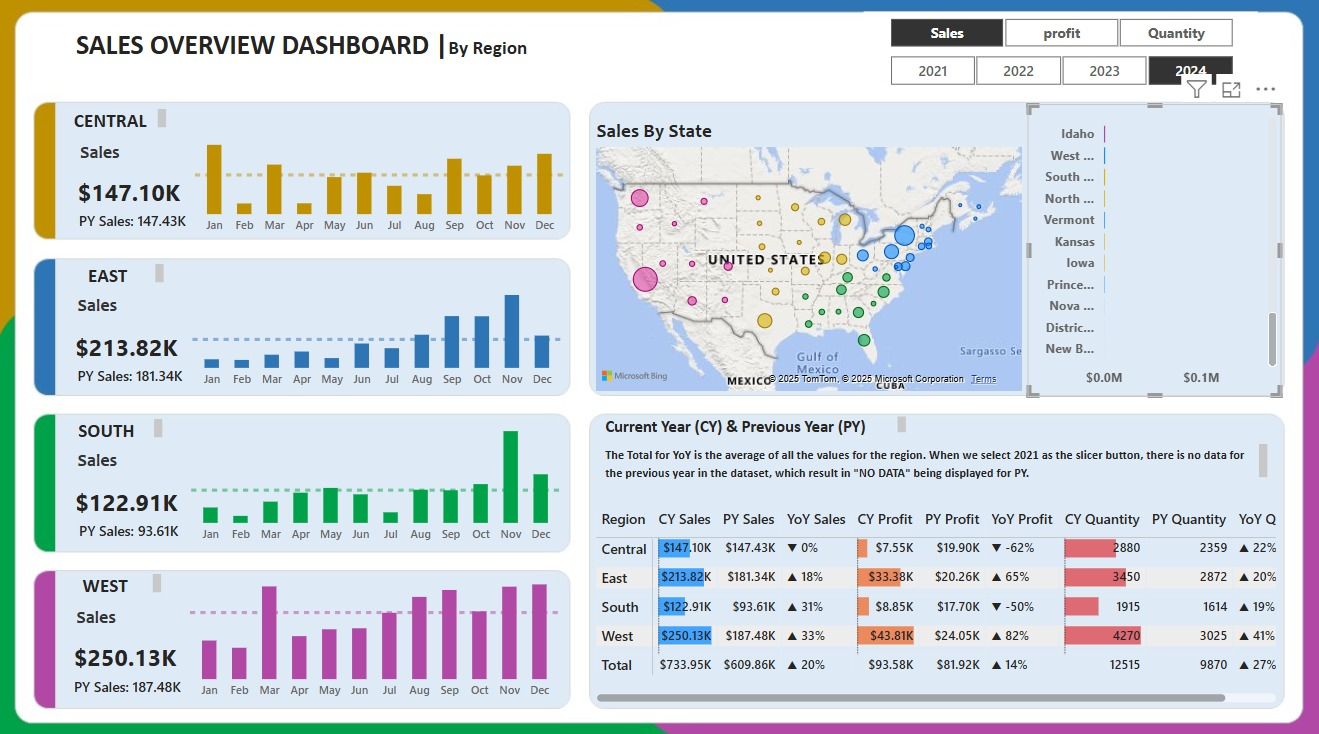

What the dashboard file says about the page in this screenshot:
{"tool":"powerbi","page":{"name":"Page 1","canvas":[1280,720],"ordinal":0},"visuals":[{"type":"slicer","fields":{"Values":["Select Metric.Select Metric"]},"box":[838.4,16.5,380.1,37],"z":0},{"type":"card","fields":{"Values":["Sales Data.Total Sales"]},"box":[71.4,170.2,116.6,45.3],"z":1000},{"type":"textbox","box":[60.3,106.2,109.8,30.2],"z":2000},{"type":"slicer","fields":{"Values":["Calendar Table.Year"]},"box":[838.4,53.5,380.1,41.2],"z":3000},{"type":"card","fields":{"Values":["Sales Data.Dynamic Title"]},"box":[71.4,135.8,60.4,34.3],"z":4000},{"type":"card","fields":{"Values":["Sales Data.PY KPI Sales"]},"box":[67.2,203.1,130.4,37],"z":5000},{"type":"clusteredColumnChart","fields":{"Y":["Sales Data.Total Sales"],"Category":["Calendar Table.Month"]},"box":[188,105.7,366.4,134.5],"z":6000},{"type":"textbox","box":[37,27.4,517.3,50.8],"z":7000},{"type":"card","fields":{"Values":["Sales Data.Total Sales"]},"box":[69.3,319.6,116.6,45.3],"z":8000},{"type":"textbox","box":[58.2,255.6,109.8,30.2],"z":9000},{"type":"card","fields":{"Values":["Sales Data.Dynamic Title"]},"box":[69.3,285.3,60.4,34.3],"z":10000},{"type":"card","fields":{"Values":["Sales Data.PY KPI Sales"]},"box":[65.2,352.5,130.4,37],"z":11000},{"type":"clusteredColumnChart","fields":{"Y":["Sales Data.Total Sales"],"Category":["Calendar Table.Month"]},"box":[185.9,255.1,366.4,134.5],"z":12000},{"type":"card","fields":{"Values":["Sales Data.Total Sales"]},"box":[68.2,468.9,116.6,45.3],"z":13000},{"type":"textbox","box":[57.1,404.9,109.8,30.2],"z":14000},{"type":"card","fields":{"Values":["Sales Data.Dynamic Title"]},"box":[68.2,434.6,60.4,34.3],"z":15000},{"type":"card","fields":{"Values":["Sales Data.PY KPI Sales"]},"box":[64.1,501.8,130.4,37],"z":16000},{"type":"clusteredColumnChart","fields":{"Y":["Sales Data.Total Sales"],"Category":["Calendar Table.Month"]},"box":[184.8,404.4,366.4,134.5],"z":17000},{"type":"card","fields":{"Values":["Sales Data.Total Sales"]},"box":[67.1,619.3,116.6,45.3],"z":18000},{"type":"textbox","box":[56.1,555.3,109.8,30.2],"z":19000},{"type":"card","fields":{"Values":["Sales Data.Dynamic Title"]},"box":[67.1,585,60.4,34.3],"z":20000},{"type":"card","fields":{"Values":["Sales Data.PY KPI Sales"]},"box":[63,652.2,130.4,37],"z":21000},{"type":"clusteredColumnChart","fields":{"Y":["Sales Data.Total Sales"],"Category":["Calendar Table.Month"]},"box":[183.7,554.8,366.4,134.5],"z":22000},{"type":"map","title":"Sales By State","fields":{"Size":["Sales Data.Total Sales"],"Category":["Sales Data.State/Province"],"Series":["Sales Data.Region"]},"box":[575,120.8,421.3,267.6],"z":23000},{"type":"barChart","fields":{"Y":["Sales Data.Total Sales"],"Category":["Sales Data.State/Province"],"Series":["Sales Data.Region"]},"box":[996.2,105.7,245.6,282.7],"z":24000},{"type":"pivotTable","fields":{"Rows":["Sales Data.Region"],"Values":["Sales Data.CY Sales","Sales Data.PY Sales","Sales Data.YoY Sales","Sales Data.CY Profit","Sales Data.PY Profit","Sales Data.YoY Profit","Sales Data.CY Quantity","Sales Data.PY Quantity","Sales Data.YoY Quantity"]},"box":[575.5,491,666,197.9],"z":25000},{"type":"textbox","box":[583.9,403,300.4,31.4],"z":26000},{"type":"textbox","box":[583.9,429.5,649.1,43.4],"z":27000}]}

Visuals, with their boxes in screenshot pixels (x1, y1, x2, y2), scaled from the page's 1280x720 canvas onto the 1319x734 screenshot:
slicer - Select Metric.Select Metric: (864, 17, 1256, 55)
card - Sales Data.Total Sales: (74, 174, 194, 220)
textbox: (62, 108, 175, 139)
slicer - Calendar Table.Year: (864, 55, 1256, 97)
card - Sales Data.Dynamic Title: (74, 138, 136, 173)
card - Sales Data.PY KPI Sales: (69, 207, 204, 245)
clusteredColumnChart - Sales Data.Total Sales x Calendar Table.Month: (194, 108, 571, 245)
textbox: (38, 28, 571, 80)
card - Sales Data.Total Sales: (71, 326, 192, 372)
textbox: (60, 261, 173, 291)
card - Sales Data.Dynamic Title: (71, 291, 134, 326)
card - Sales Data.PY KPI Sales: (67, 359, 202, 397)
clusteredColumnChart - Sales Data.Total Sales x Calendar Table.Month: (192, 260, 569, 397)
card - Sales Data.Total Sales: (70, 478, 190, 524)
textbox: (59, 413, 172, 444)
card - Sales Data.Dynamic Title: (70, 443, 133, 478)
card - Sales Data.PY KPI Sales: (66, 512, 200, 549)
clusteredColumnChart - Sales Data.Total Sales x Calendar Table.Month: (190, 412, 568, 549)
card - Sales Data.Total Sales: (69, 631, 189, 678)
textbox: (58, 566, 171, 597)
card - Sales Data.Dynamic Title: (69, 596, 131, 631)
card - Sales Data.PY KPI Sales: (65, 665, 199, 703)
clusteredColumnChart - Sales Data.Total Sales x Calendar Table.Month: (189, 566, 567, 703)
"Sales By State" map: (593, 123, 1027, 396)
barChart - Sales Data.Total Sales x Sales Data.State/Province: (1027, 108, 1280, 396)
pivotTable - Sales Data.Region x Sales Data.CY Sales: (593, 501, 1279, 702)
textbox: (602, 411, 911, 443)
textbox: (602, 438, 1271, 482)
